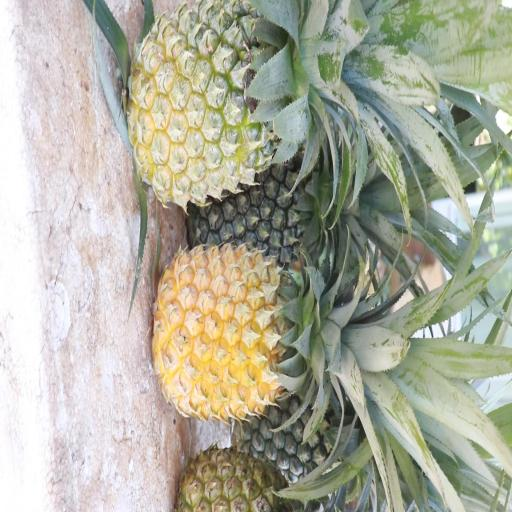------------------------------: (134, 2, 308, 198)
Pineapple - v8 v1: (156, 239, 294, 416)
